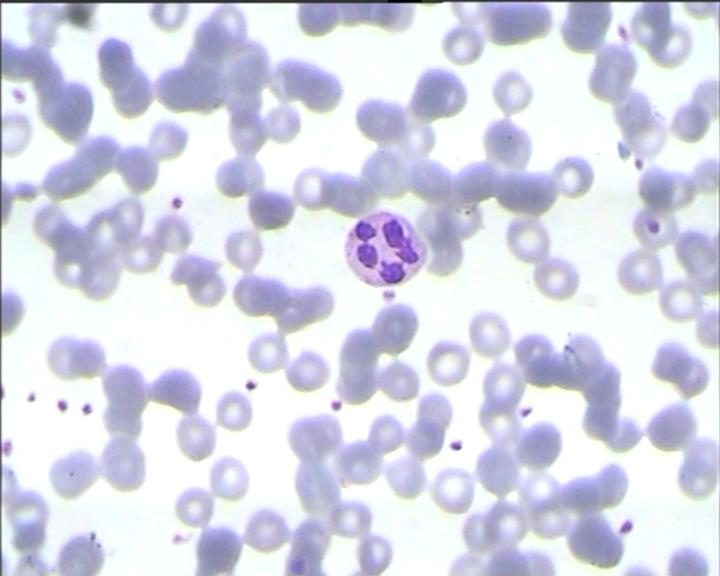neut: (337, 206, 426, 289)
